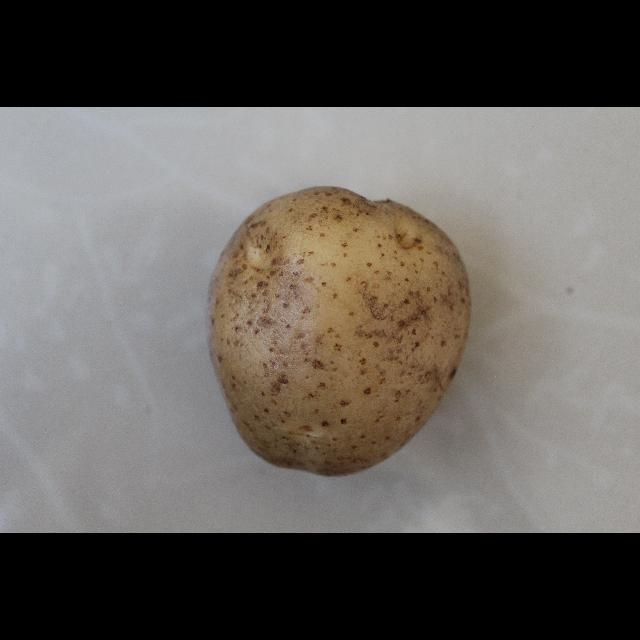Diseased-fungal potato: (202, 182, 480, 480)
